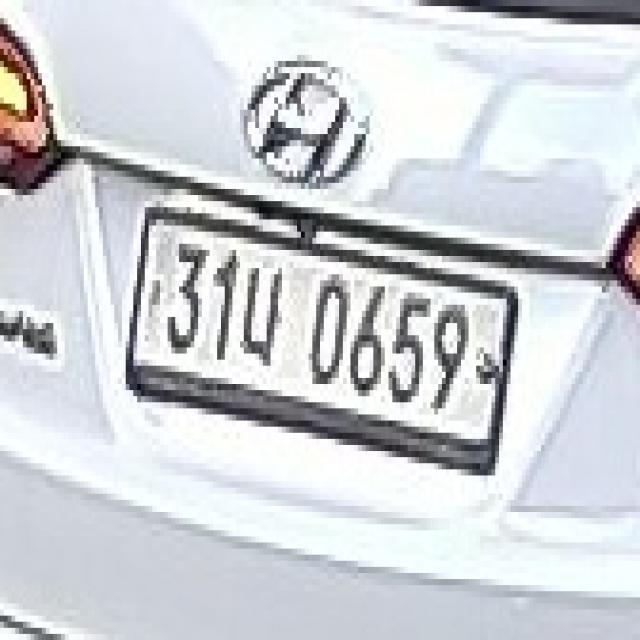0: (305, 274, 350, 384)
1: (202, 243, 240, 359)
3: (168, 232, 210, 354)
5: (388, 292, 431, 408)
6: (346, 280, 384, 396)
9: (430, 305, 472, 414)
license_plate: (130, 213, 514, 451)
na: (240, 268, 282, 360)
